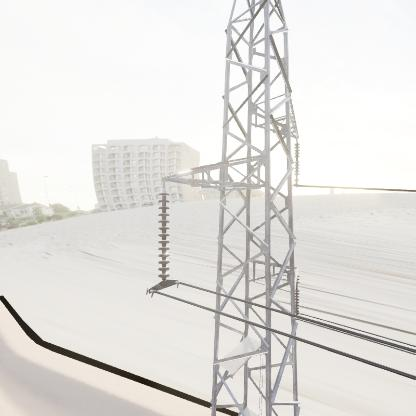insulator: (153, 189, 174, 281), (292, 141, 302, 187)
